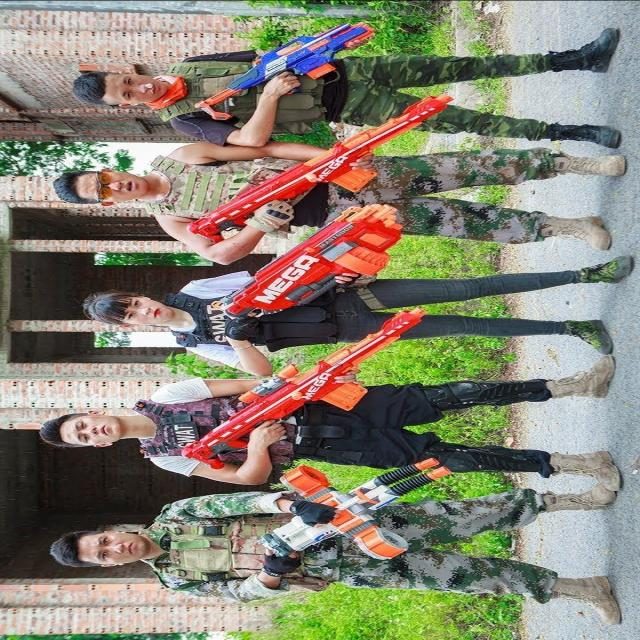Nerf gun: (162, 93, 467, 245), (179, 304, 433, 473), (200, 200, 413, 336), (246, 450, 448, 571), (190, 13, 390, 122)
